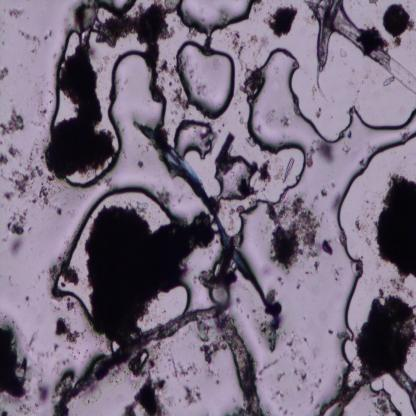Air bubble: (245, 46, 416, 190), (336, 154, 369, 387), (104, 51, 168, 150), (176, 39, 237, 120), (84, 182, 174, 232), (55, 208, 95, 309), (137, 282, 191, 332), (176, 0, 254, 31), (369, 371, 416, 415), (63, 154, 116, 188), (176, 119, 214, 160), (50, 87, 78, 126), (128, 345, 154, 379), (62, 27, 82, 57), (108, 337, 123, 356)
Background material: (84, 207, 218, 334), (46, 6, 108, 184), (308, 0, 416, 96), (357, 287, 416, 381), (374, 173, 416, 282), (96, 7, 173, 54), (270, 200, 320, 272), (0, 318, 32, 402), (285, 327, 321, 399), (124, 368, 169, 414), (258, 288, 282, 354), (4, 164, 46, 200), (196, 318, 227, 362), (384, 3, 415, 46), (262, 3, 298, 37), (7, 206, 31, 256), (199, 265, 237, 294), (390, 373, 416, 413), (16, 26, 43, 61), (35, 194, 64, 221), (0, 106, 23, 137), (35, 345, 59, 374), (304, 140, 333, 164), (56, 316, 80, 345), (240, 68, 262, 94), (169, 87, 190, 114), (34, 378, 50, 406), (232, 30, 246, 62), (182, 386, 203, 406), (61, 263, 79, 286), (329, 260, 344, 286), (311, 185, 329, 204), (7, 5, 24, 24), (372, 395, 389, 414), (319, 236, 335, 254), (159, 61, 176, 76), (322, 321, 338, 336), (282, 109, 292, 130), (8, 145, 22, 159), (0, 152, 8, 167), (0, 66, 8, 81)
Cellulose filter fibre: (60, 305, 259, 410)
Cotton: (136, 121, 272, 312)
Diatom: (284, 157, 295, 181)
